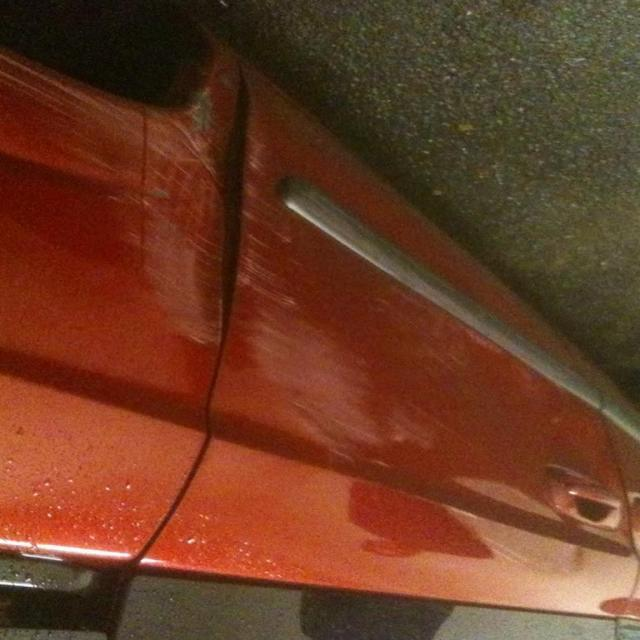scratch: (124, 70, 483, 469)
